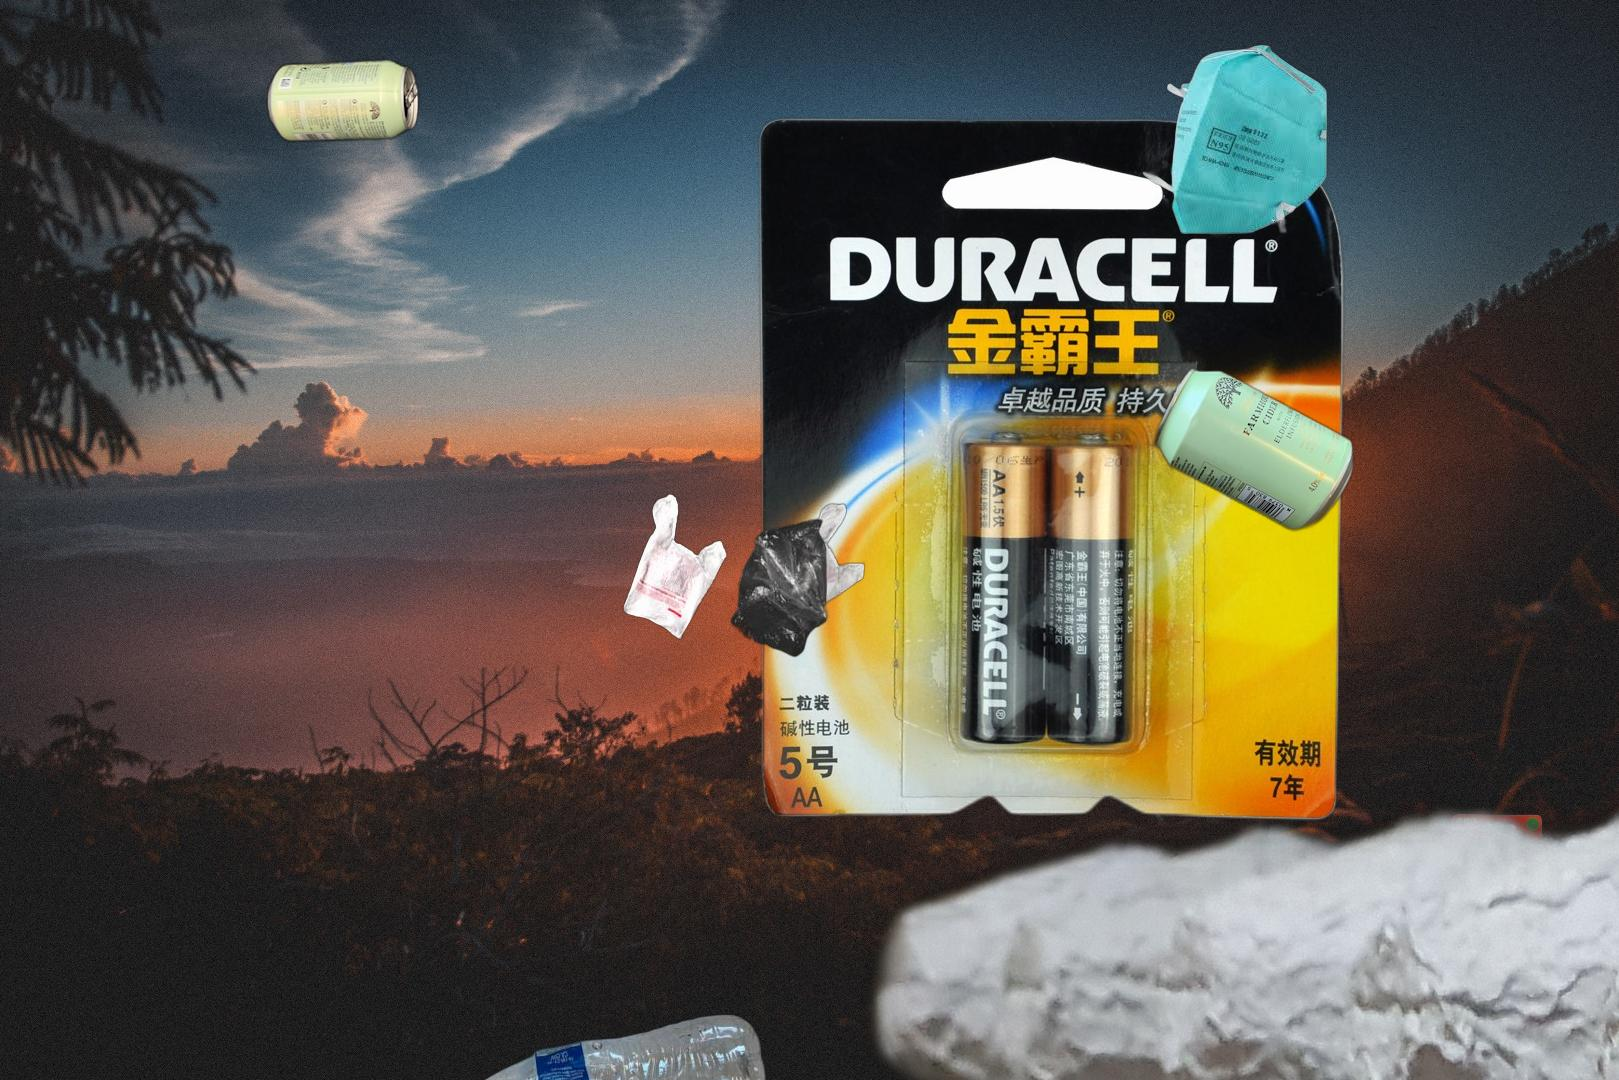battery: (753, 111, 1351, 827), (1449, 811, 1596, 1015)
metal-cans: (1149, 362, 1357, 536), (262, 53, 423, 148)
plastic-bag: (621, 492, 868, 659)
plastic-bottles: (433, 1011, 770, 1080)
trash: (1140, 42, 1330, 234)
trashbox-cardboard: (735, 315, 1619, 1080)
